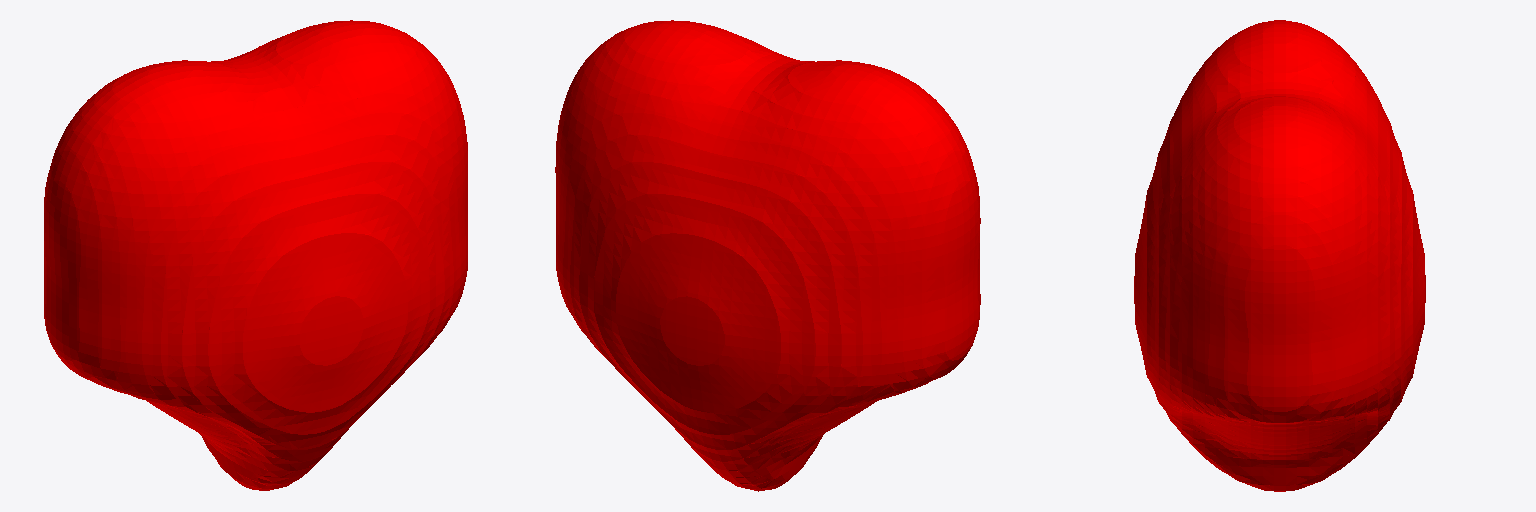
robot.urdf — heart:
<?xml version="1.0"?>
<robot name="heart">
  <link name="base_link">
    <inertial>
      <mass value="5.0"/>
      <origin xyz="0 0 0" rpy="0 0 0"/>
      <inertia ixx="0.1" ixy="0" ixz="0" iyy="0.1" iyz="0" izz="0.1"/>
    </inertial>
    <visual>
      <origin xyz="0 0 0" rpy="1.57 0 0"/>
      <geometry>
        <mesh filename="heart2_9.stl" scale="1 1 1"/>
      </geometry>
      <material name="red">
        <color rgba="1 0 0 1"/>
      </material>
    </visual>
    <collision>
      <origin xyz="0 0 0" rpy="1.57 0 0"/>
      <geometry>
        <mesh filename="heart2_9.stl" scale="1 1 1"/>
      </geometry>
    </collision>
  </link>
</robot>

--- Render facts (derived) ---
3 views of the same robot in one strip: view 1: azimuth 30°, elevation 25°; view 2: azimuth 150°, elevation 25°; view 3: azimuth 270°, elevation 25° (orthographic).
Model heart with 1 links and 0 joints (none), rooted at base_link, posed every joint at zero.
Visible links, largest first — view 1: base_link; view 2: base_link; view 3: base_link.
Boxes of the visible links, <box> form: base_link: <box>44,20,467,490</box>; base_link: <box>555,20,980,491</box>; base_link: <box>1134,20,1425,491</box>.
Size in the robot's own frame: 0.4594 by 0.3035 by 0.4755 metres.
1 mesh visuals loaded from 1 distinct referenced files (1 binary STL).
